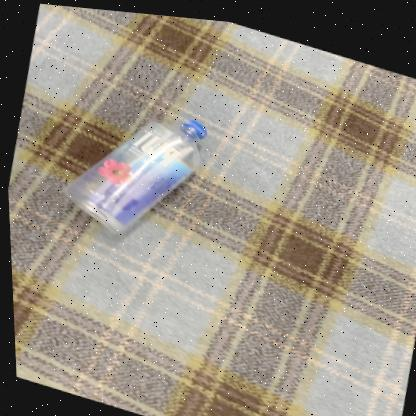Plastic: (62, 117, 204, 230)
